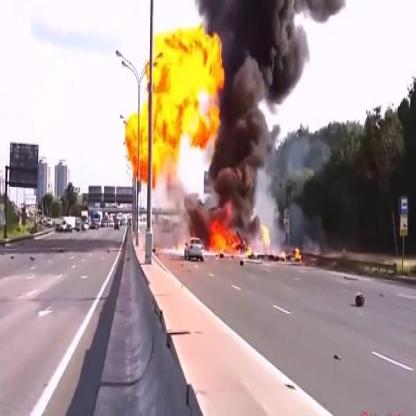fire: (121, 20, 226, 188), (210, 203, 254, 259), (280, 245, 304, 264), (261, 220, 271, 249)
